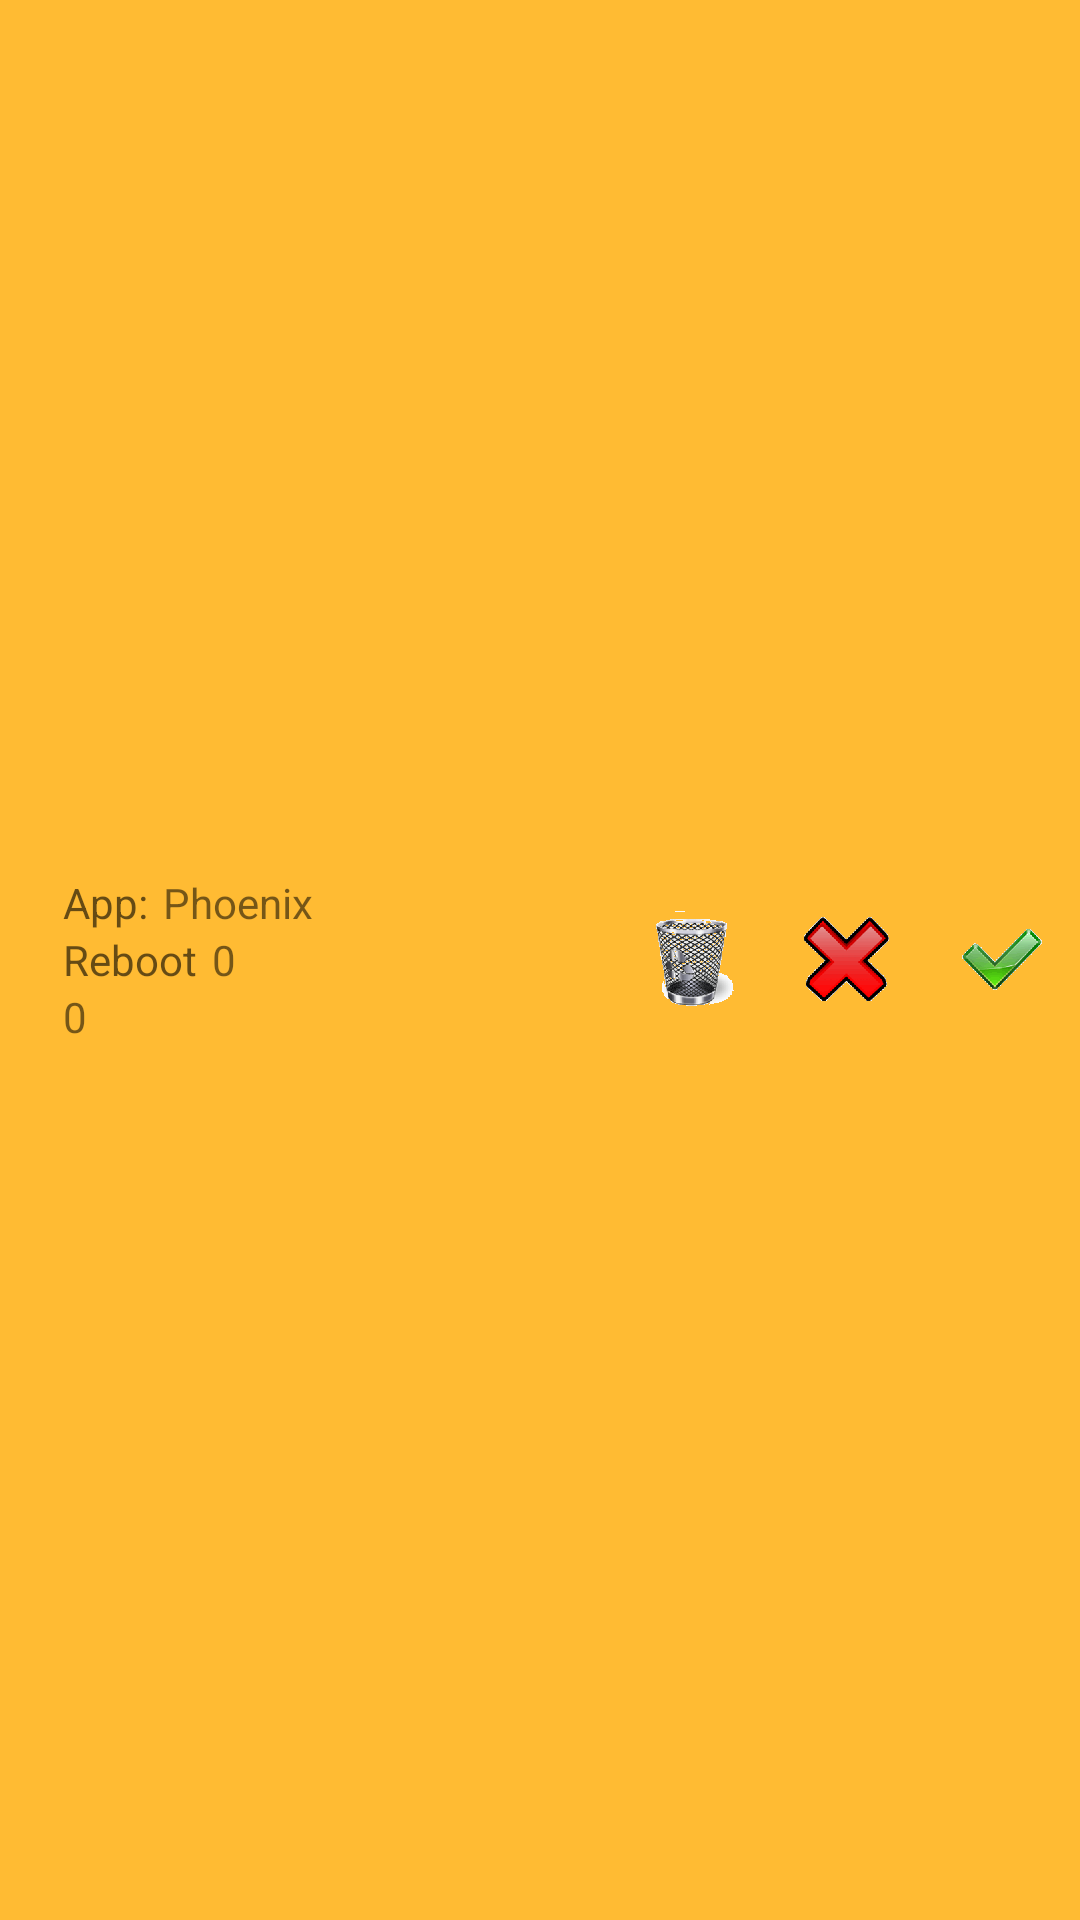

Icon bounding boxes for this 1080x1920 phone screenshot, format (x1, y1, x2, y2):
cancel: (804, 917, 889, 1001)
